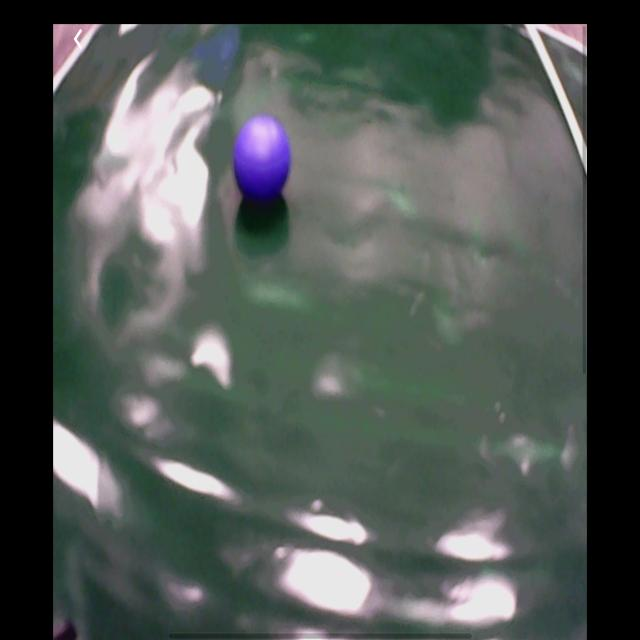ball: (233, 115, 291, 206)
